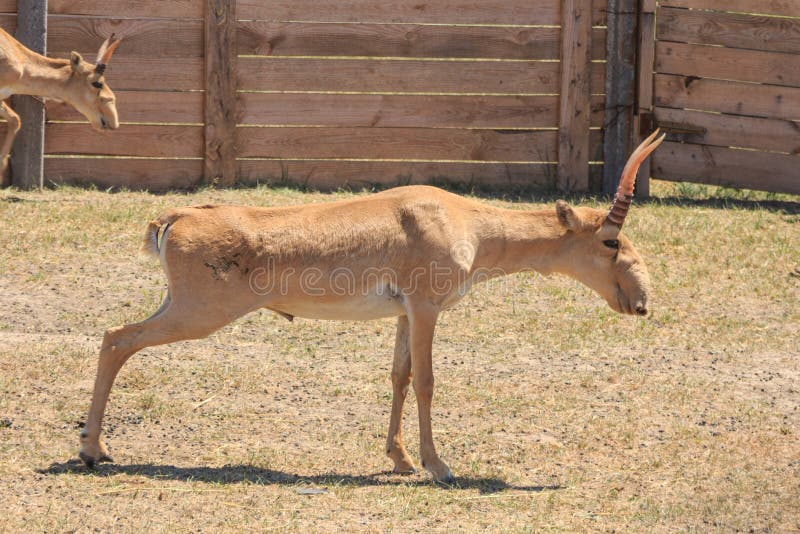saiga: (73, 124, 671, 487)
